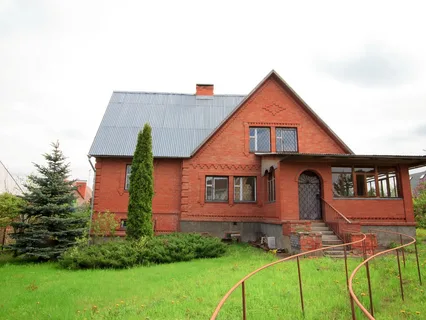private_hause: (102, 89, 394, 236)
